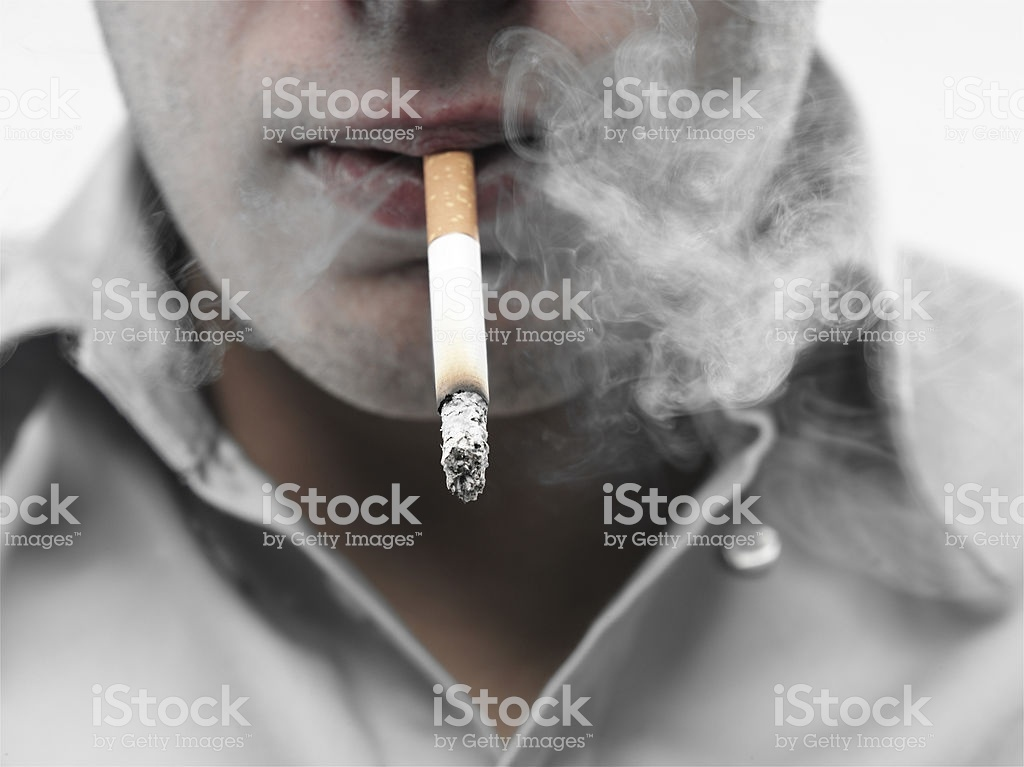sigaretta: (419, 140, 506, 492)
